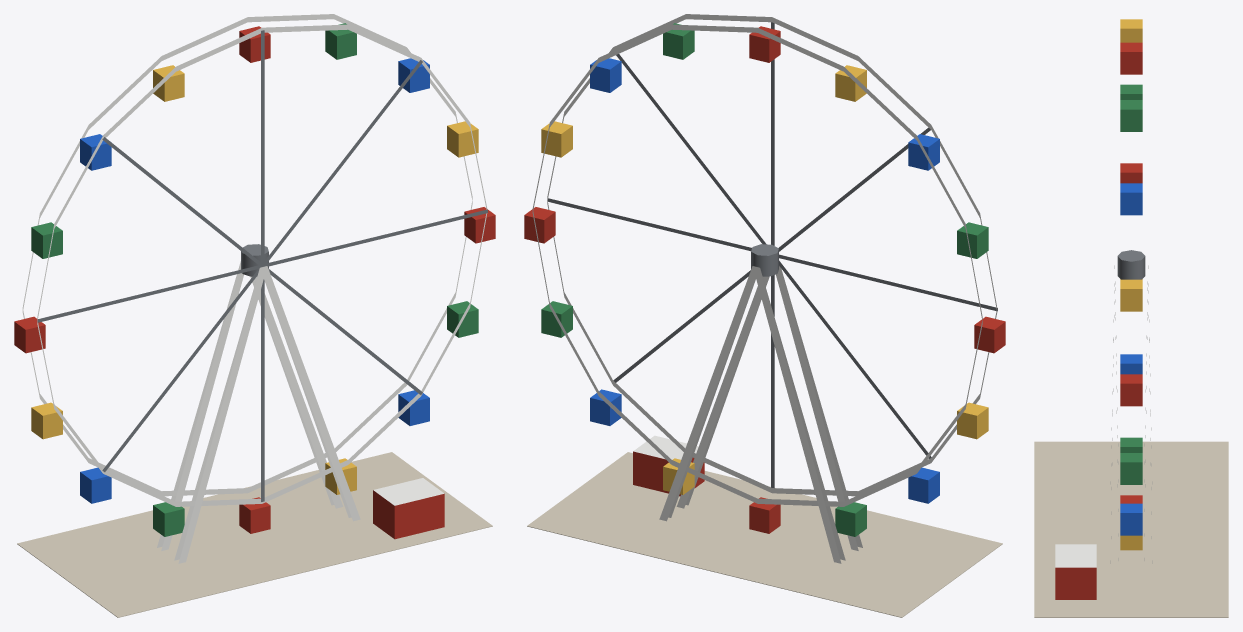
File: grande_roue.glb
3 views of the same model, side by side, from view 1: azimuth 30°, elevation 25°; view 2: azimuth 150°, elevation 25°; view 3: azimuth 270°, elevation 25° (orthographic). The views are drawn at different scales.
Visible parts, largest first — view 1: grande_roue; view 2: grande_roue; view 3: grande_roue.
Part boxes in pixels (x1,y1,x2,y2): grande_roue: (14, 14, 495, 617); grande_roue: (524, 14, 1005, 617); grande_roue: (1034, 19, 1228, 617).
Bounding box in the file's own units: 37.6 × 39.2 × 14.
Materials: 1 (1 with a texture image).
